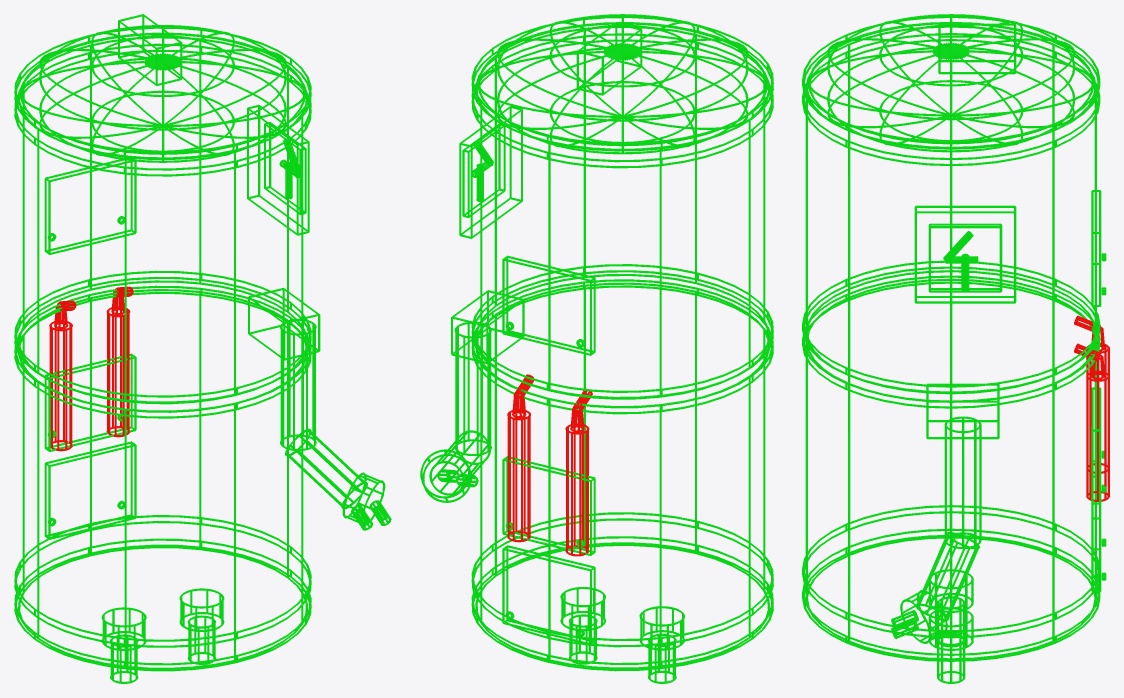
The model's file is hi-energy-power-stores-highlight-cooling-cylinders.glb.
The picture shows the model from 3 angles, left to right: view 1: azimuth 30°, elevation 25°; view 2: azimuth 150°, elevation 25°; view 3: azimuth 270°, elevation 25°; orthographic projection.
Visible parts, largest first — view 1: chassis technical wire, probe-input-arms technical wire, cooling-cylinders technical wire, power-terminals technical wire; view 2: chassis technical wire, cooling-cylinders technical wire, probe-input-arms technical wire, power-terminals technical wire; view 3: chassis technical wire, probe-input-arms technical wire, cooling-cylinders technical wire, power-terminals technical wire.
Part boxes in pixels (bbox=[...]): chassis technical wire: bbox=[14, 14, 311, 671]; probe-input-arms technical wire: bbox=[248, 287, 391, 530]; cooling-cylinders technical wire: bbox=[49, 286, 133, 451]; power-terminals technical wire: bbox=[101, 588, 224, 683]; chassis technical wire: bbox=[459, 14, 773, 671]; cooling-cylinders technical wire: bbox=[507, 374, 592, 556]; probe-input-arms technical wire: bbox=[420, 290, 524, 502]; power-terminals technical wire: bbox=[560, 587, 684, 683]; chassis technical wire: bbox=[802, 14, 1106, 661]; probe-input-arms technical wire: bbox=[891, 383, 999, 643]; cooling-cylinders technical wire: bbox=[1074, 315, 1109, 501]; power-terminals technical wire: bbox=[928, 569, 973, 683].
Bounding box in the file's own units: 1.66 × 2.94 × 1.3.
